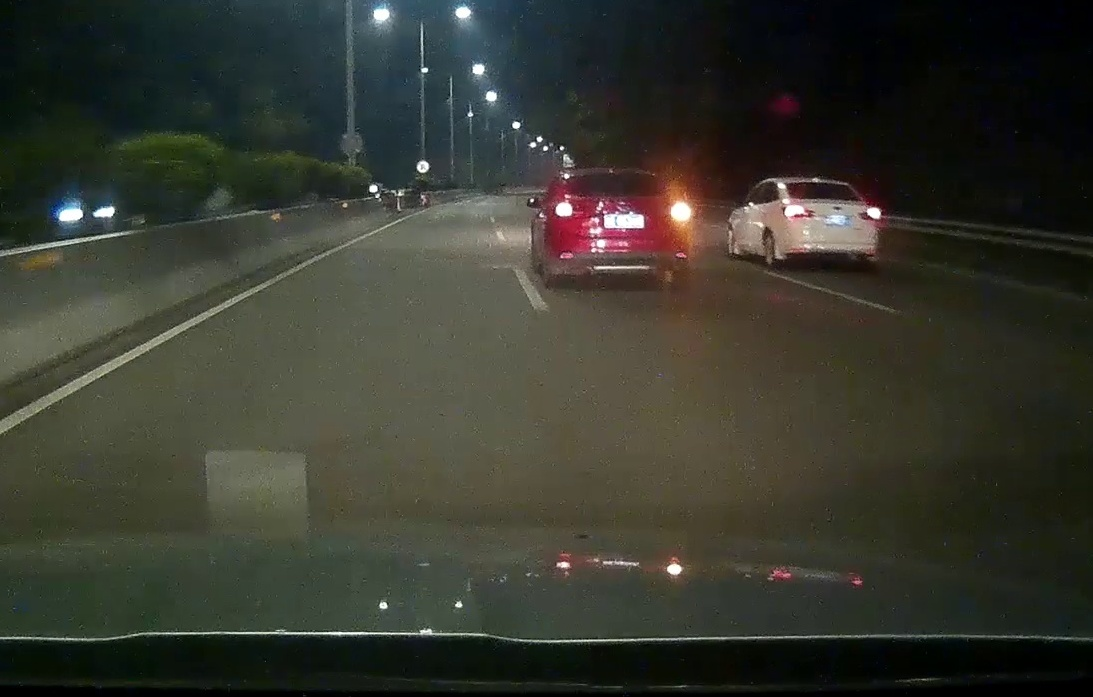L_light: (552, 201, 576, 220), (782, 204, 814, 218)
R_light: (668, 203, 690, 220), (858, 209, 880, 221)
T_light: (605, 174, 627, 180), (816, 183, 831, 186)
night-no: (777, 177, 881, 267)
night-right: (545, 166, 692, 287)
